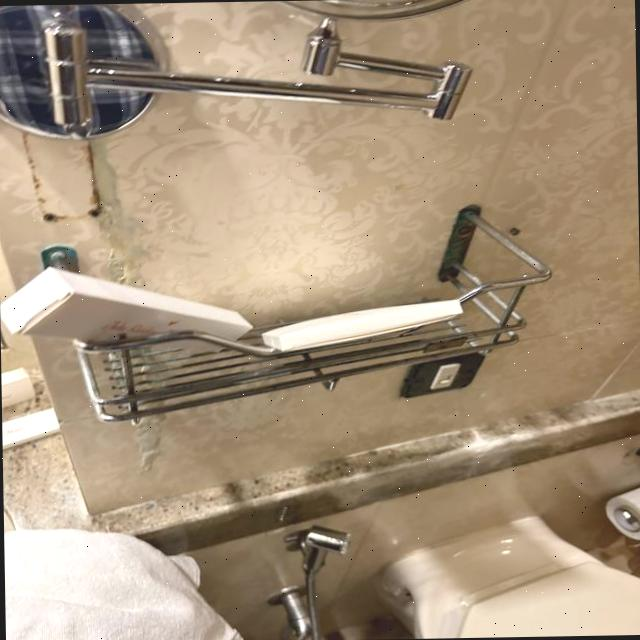mess: (28, 245, 502, 411), (48, 8, 474, 154), (15, 128, 106, 240)
